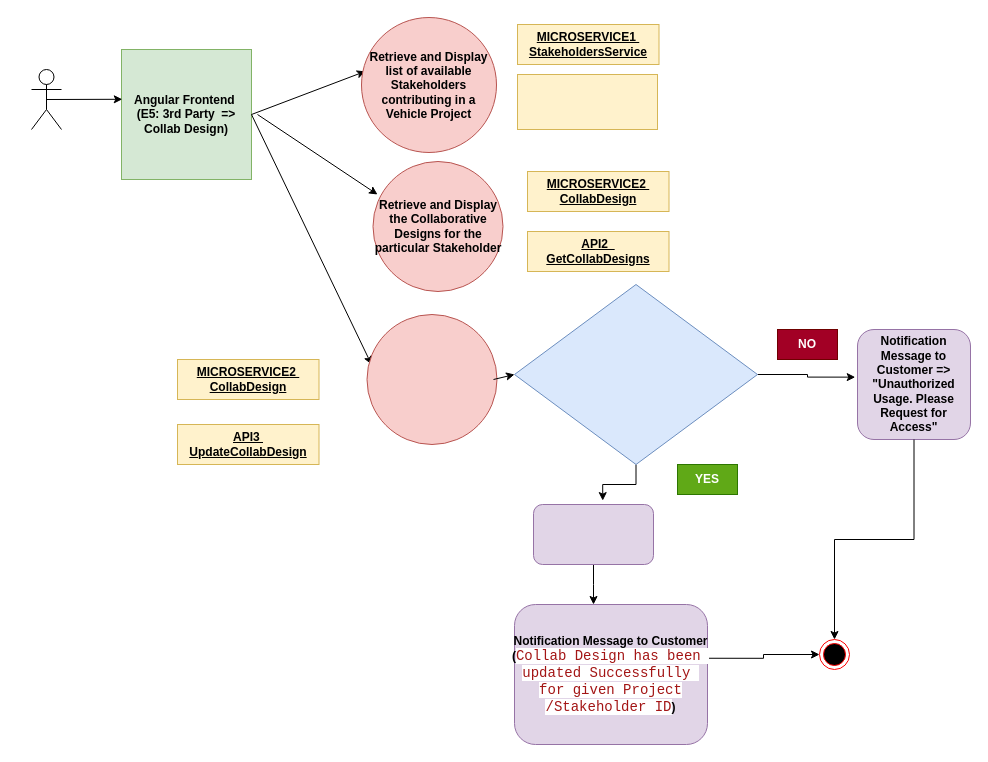
Image size: 988x762. Some labels were removed from this diagram. The shapes that lost their labels are listed below. From the top down, each one's centre as x and y in pixels, then its label:
At point 46,99: "Customers".
At point 587,102: "API1 GetStakeholders".
At point 431,379: "Update selected Collab Design".
At point 636,374: "Customer == Stakeholder Or Project Coordinator".
At point 593,534: "Update Collab design with required documents".
